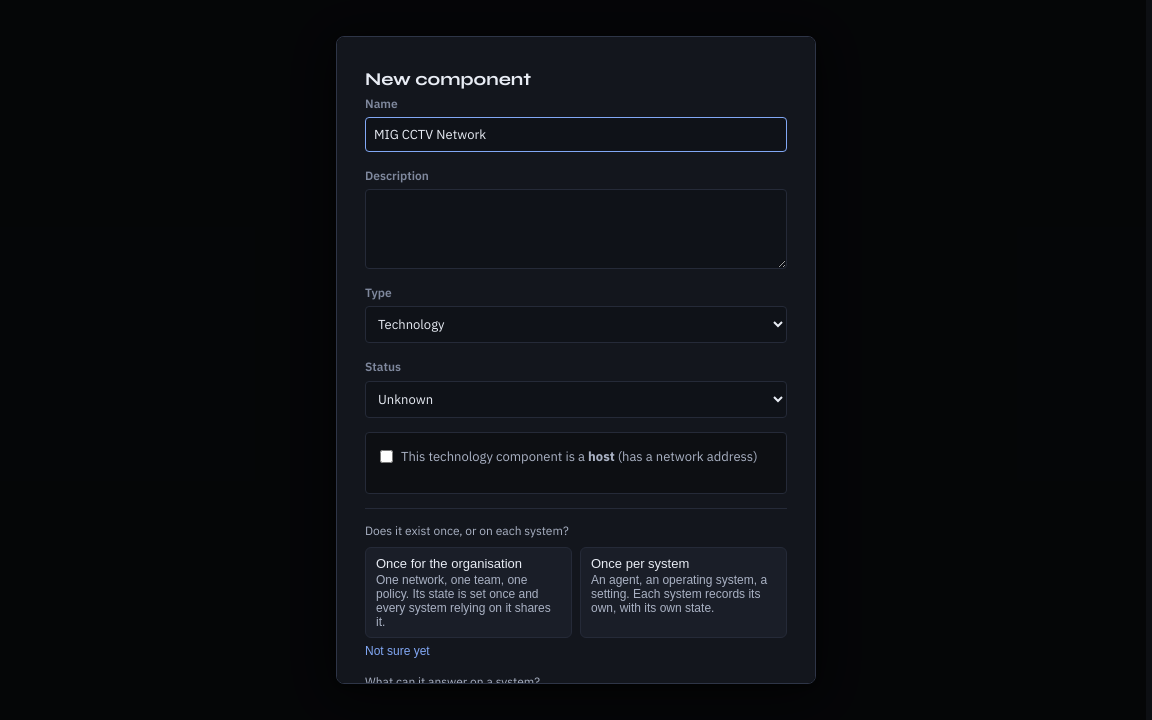
Test case: the one panel a component is created from › without the architecture permission the roles are shown, cannot be chosen, and are left for an architect
Later steps or results of the test are not shown.
Step 1. Click the button "Once for the organisation" → (468,592), box [365,546,572,638]
(page scrolled)
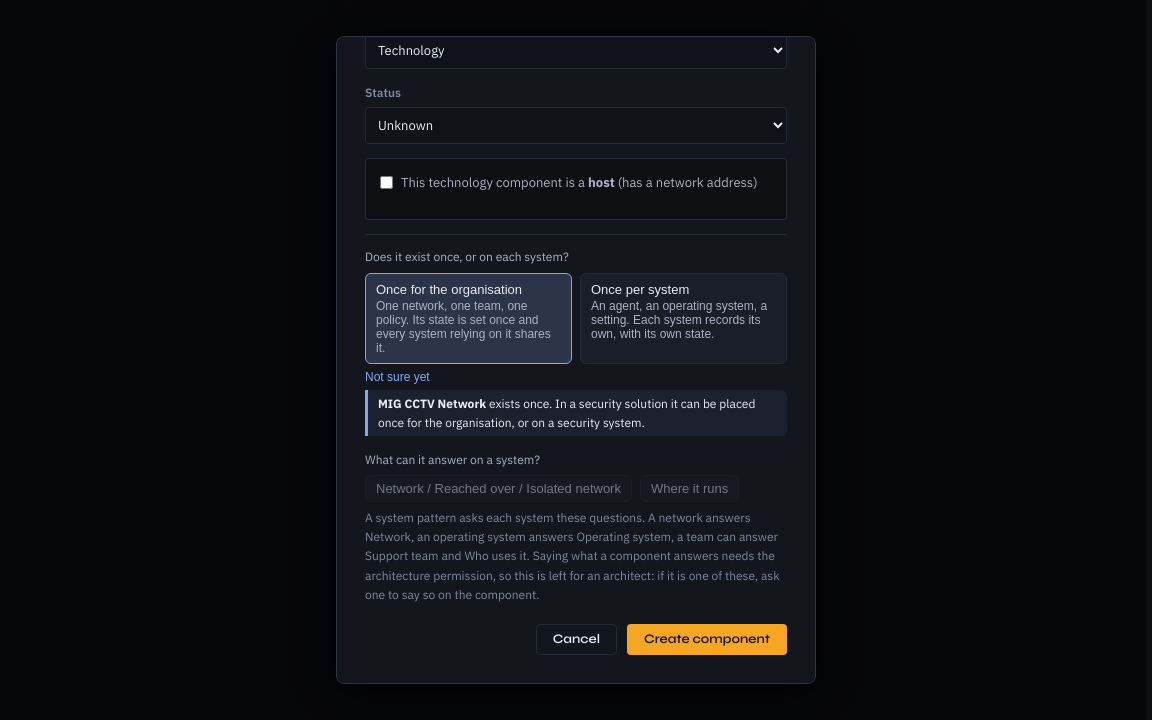
Now the button "Create component" is enabled, box [627,624,787,655]
